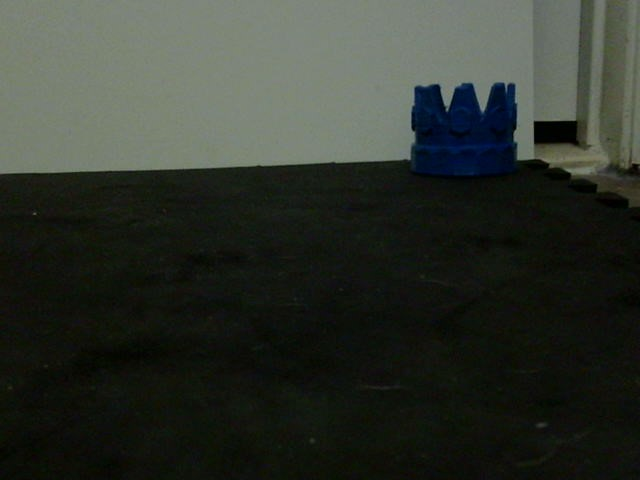crown: (409, 81, 521, 177)
